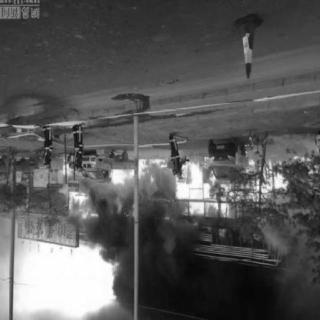Fire: (50, 150, 316, 229)
